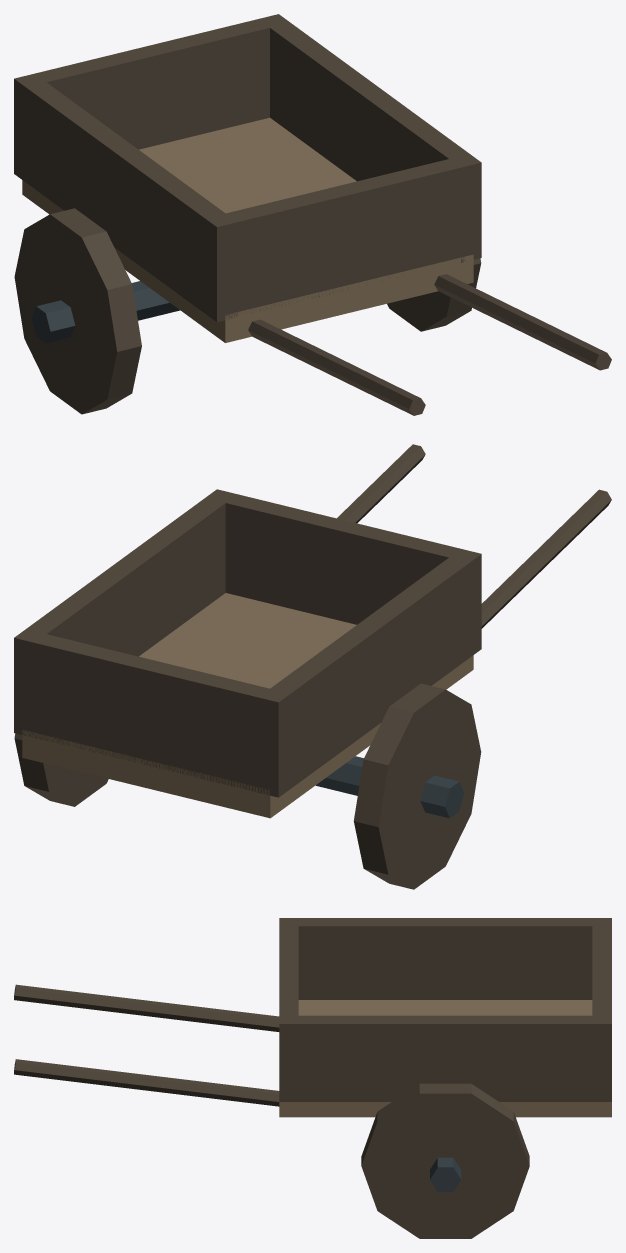
Rendered from PRP_03_Cart.glb.
3 views of the same model, one above another, from view 1: azimuth 30°, elevation 25°; view 2: azimuth 150°, elevation 25°; view 3: azimuth 270°, elevation 25° (orthographic). The views are drawn at different scales.
Parts seen in each view (by area): view 1: PRP_03_Cart; view 2: PRP_03_Cart; view 3: PRP_03_Cart.
Boxes of the visible parts, x1,y1,x2,y2 form: PRP_03_Cart: (14,14,611,415); PRP_03_Cart: (14,444,611,889); PRP_03_Cart: (14,918,611,1238).
Bounding box in the file's own units: 2 × 1.1 × 3.05.
